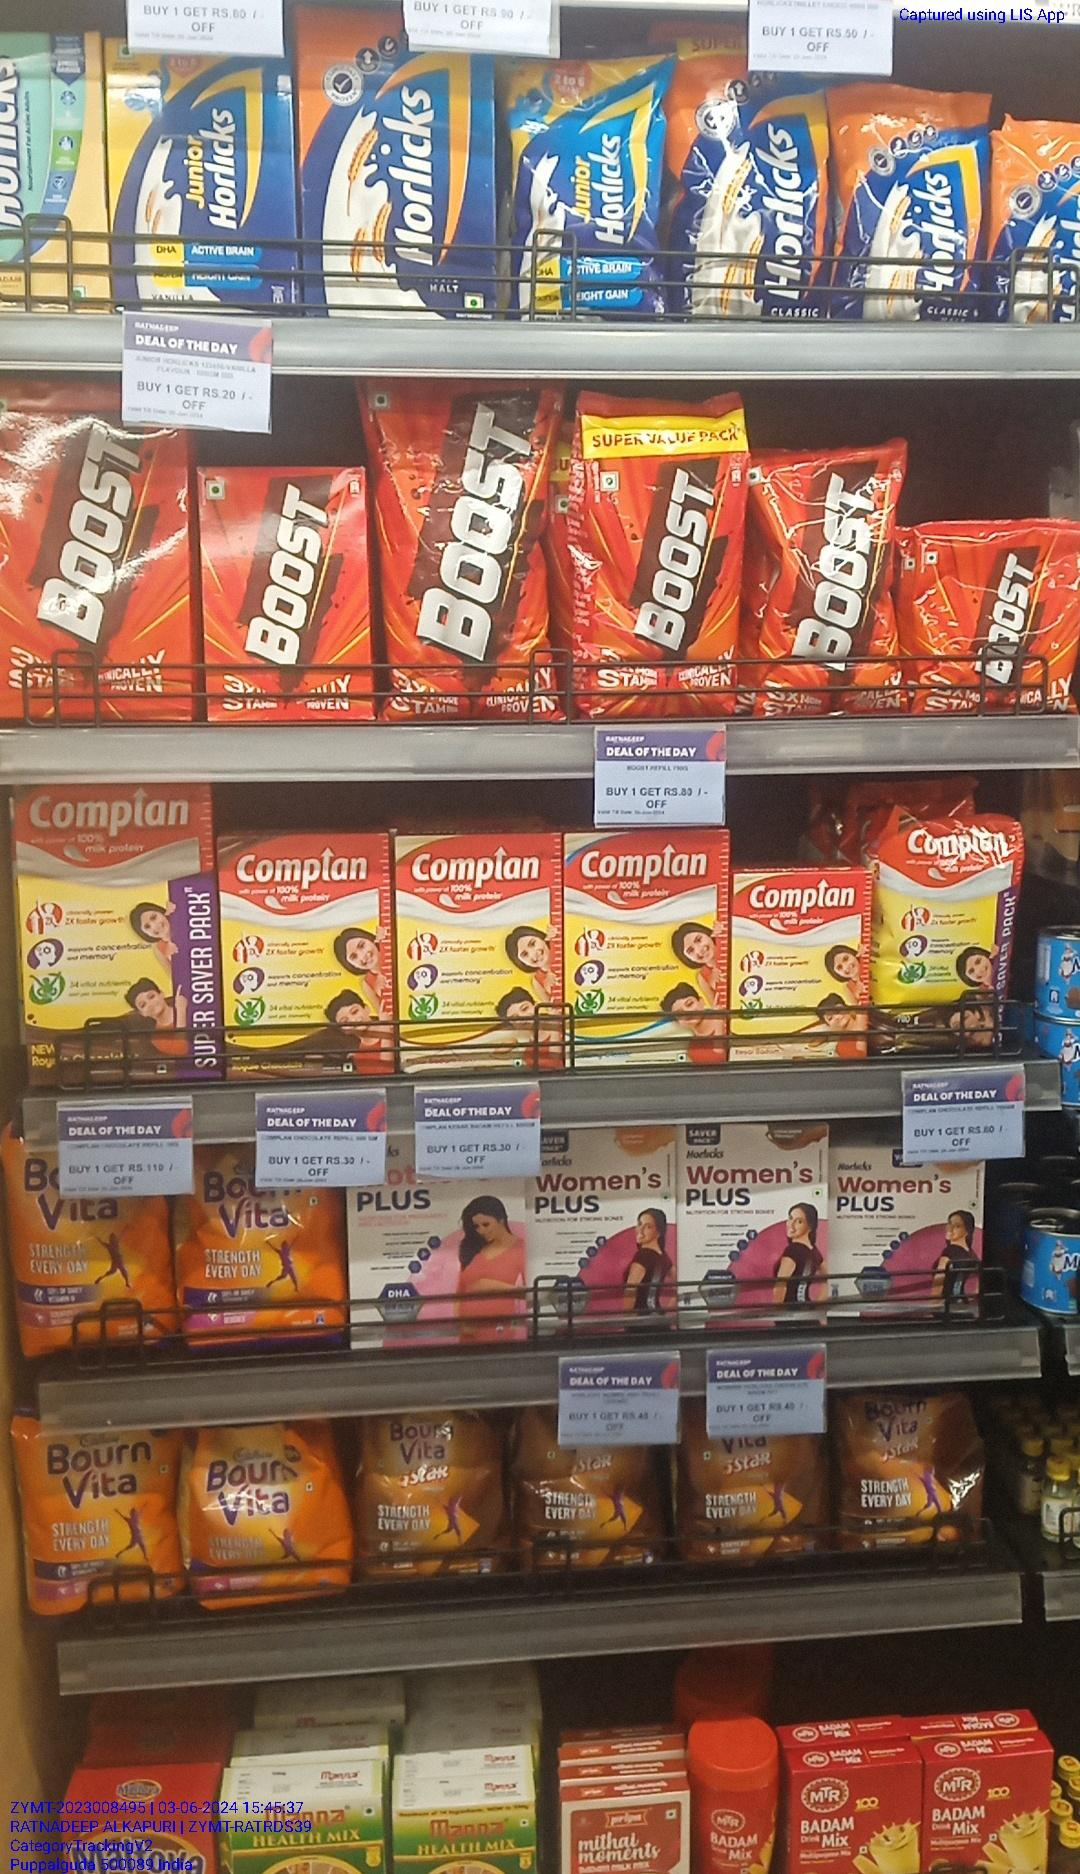BOURN_VITA_750_G_POUCH: (188, 1151, 340, 1346), (175, 1431, 346, 1604), (28, 1436, 172, 1608), (24, 1200, 175, 1349)
BOURN_VITA_FIVE_STAR_MAGIC_750_G_POUCH: (357, 1413, 506, 1581), (835, 1394, 985, 1551), (523, 1444, 666, 1579), (676, 1443, 823, 1565)
COMPLAN_CHOCOLATE_500_GMS_PACK: (17, 785, 211, 1081), (219, 835, 395, 1084)
COMPLAN_CREAMY_CLASSIC_500_G_PACK: (403, 838, 560, 1067), (566, 837, 720, 1071)
COMPLAN_KESAR_BADAM_200_GMS_PACK: (726, 870, 871, 1068)
COMPLAN_RC_POUCH_700_GMS_12: (878, 820, 998, 1059)
HORLICK_CLASSIC_MALT_750_G_POUCH: (508, 64, 667, 319), (671, 77, 823, 311), (842, 81, 982, 322), (991, 120, 1080, 329)
